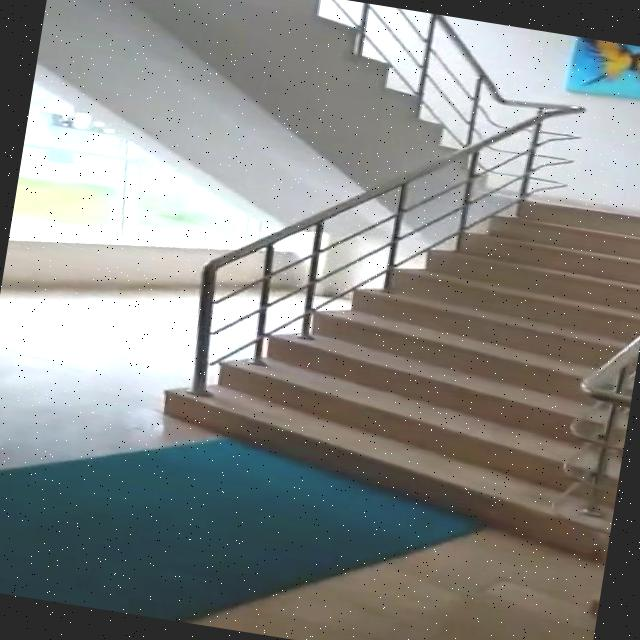stairs: (148, 144, 640, 560)
